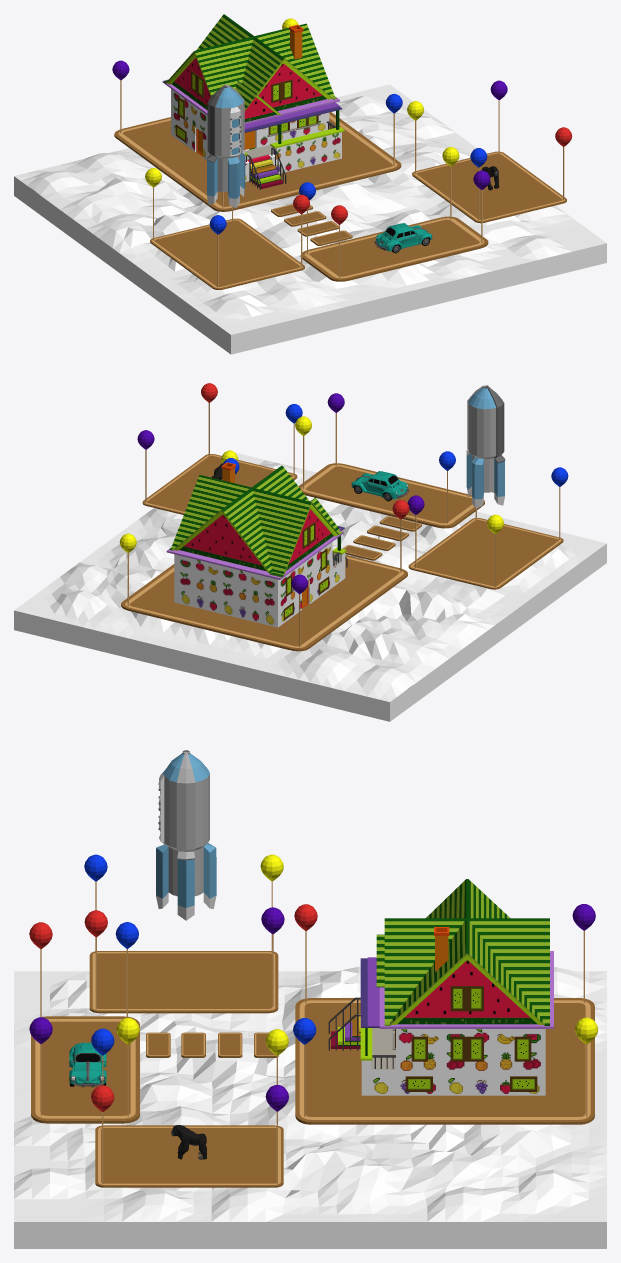
3 views of the same model, one above another, from view 1: azimuth 30°, elevation 25°; view 2: azimuth 150°, elevation 25°; view 3: azimuth 270°, elevation 25° (orthographic). The views are drawn at different scales.
Visible parts, largest first — view 1: Cube.013, Cube.1063, OBJRANDOM_ROCKETSHIP, VEHICLES_VOLKSWAGEN; view 2: Cube.013, Cube.1063, OBJRANDOM_ROCKETSHIP, VEHICLES_VOLKSWAGEN; view 3: Cube.013, Cube.1063, OBJRANDOM_ROCKETSHIP, VEHICLES_VOLKSWAGEN, ANIMAL_GORILA.
Part boxes in pixels (x1,y1,x2,y2): Cube.013: [14, 18, 606, 354]; Cube.1063: [162, 14, 344, 190]; OBJRANDOM_ROCKETSHIP: [206, 84, 245, 207]; VEHICLES_VOLKSWAGEN: [374, 223, 432, 253]; Cube.013: [14, 383, 606, 721]; Cube.1063: [166, 462, 347, 627]; OBJRANDOM_ROCKETSHIP: [466, 385, 505, 508]; VEHICLES_VOLKSWAGEN: [351, 471, 408, 501]; Cube.013: [14, 854, 606, 1248]; Cube.1063: [328, 879, 553, 1095]; OBJRANDOM_ROCKETSHIP: [156, 750, 216, 920]; VEHICLES_VOLKSWAGEN: [69, 1042, 106, 1087]; ANIMAL_GORILA: [171, 1125, 206, 1159].
Bounding box in the file's own units: 4000 × 2179 × 4000.
Materials: 35 (3 with a texture image).
